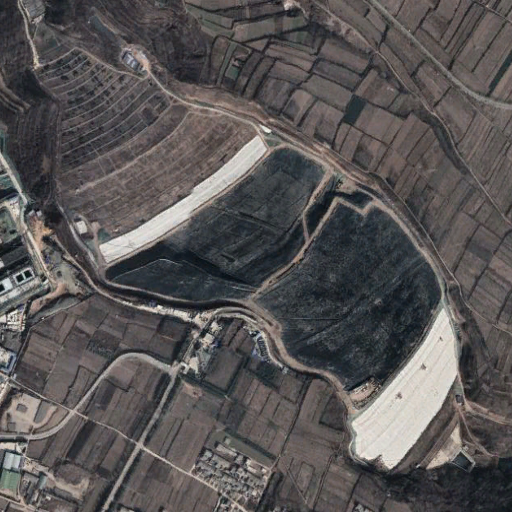lf: (98, 132, 461, 471)
